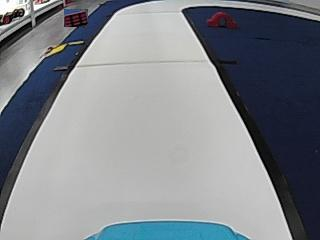bridge: (207, 11, 237, 29)
